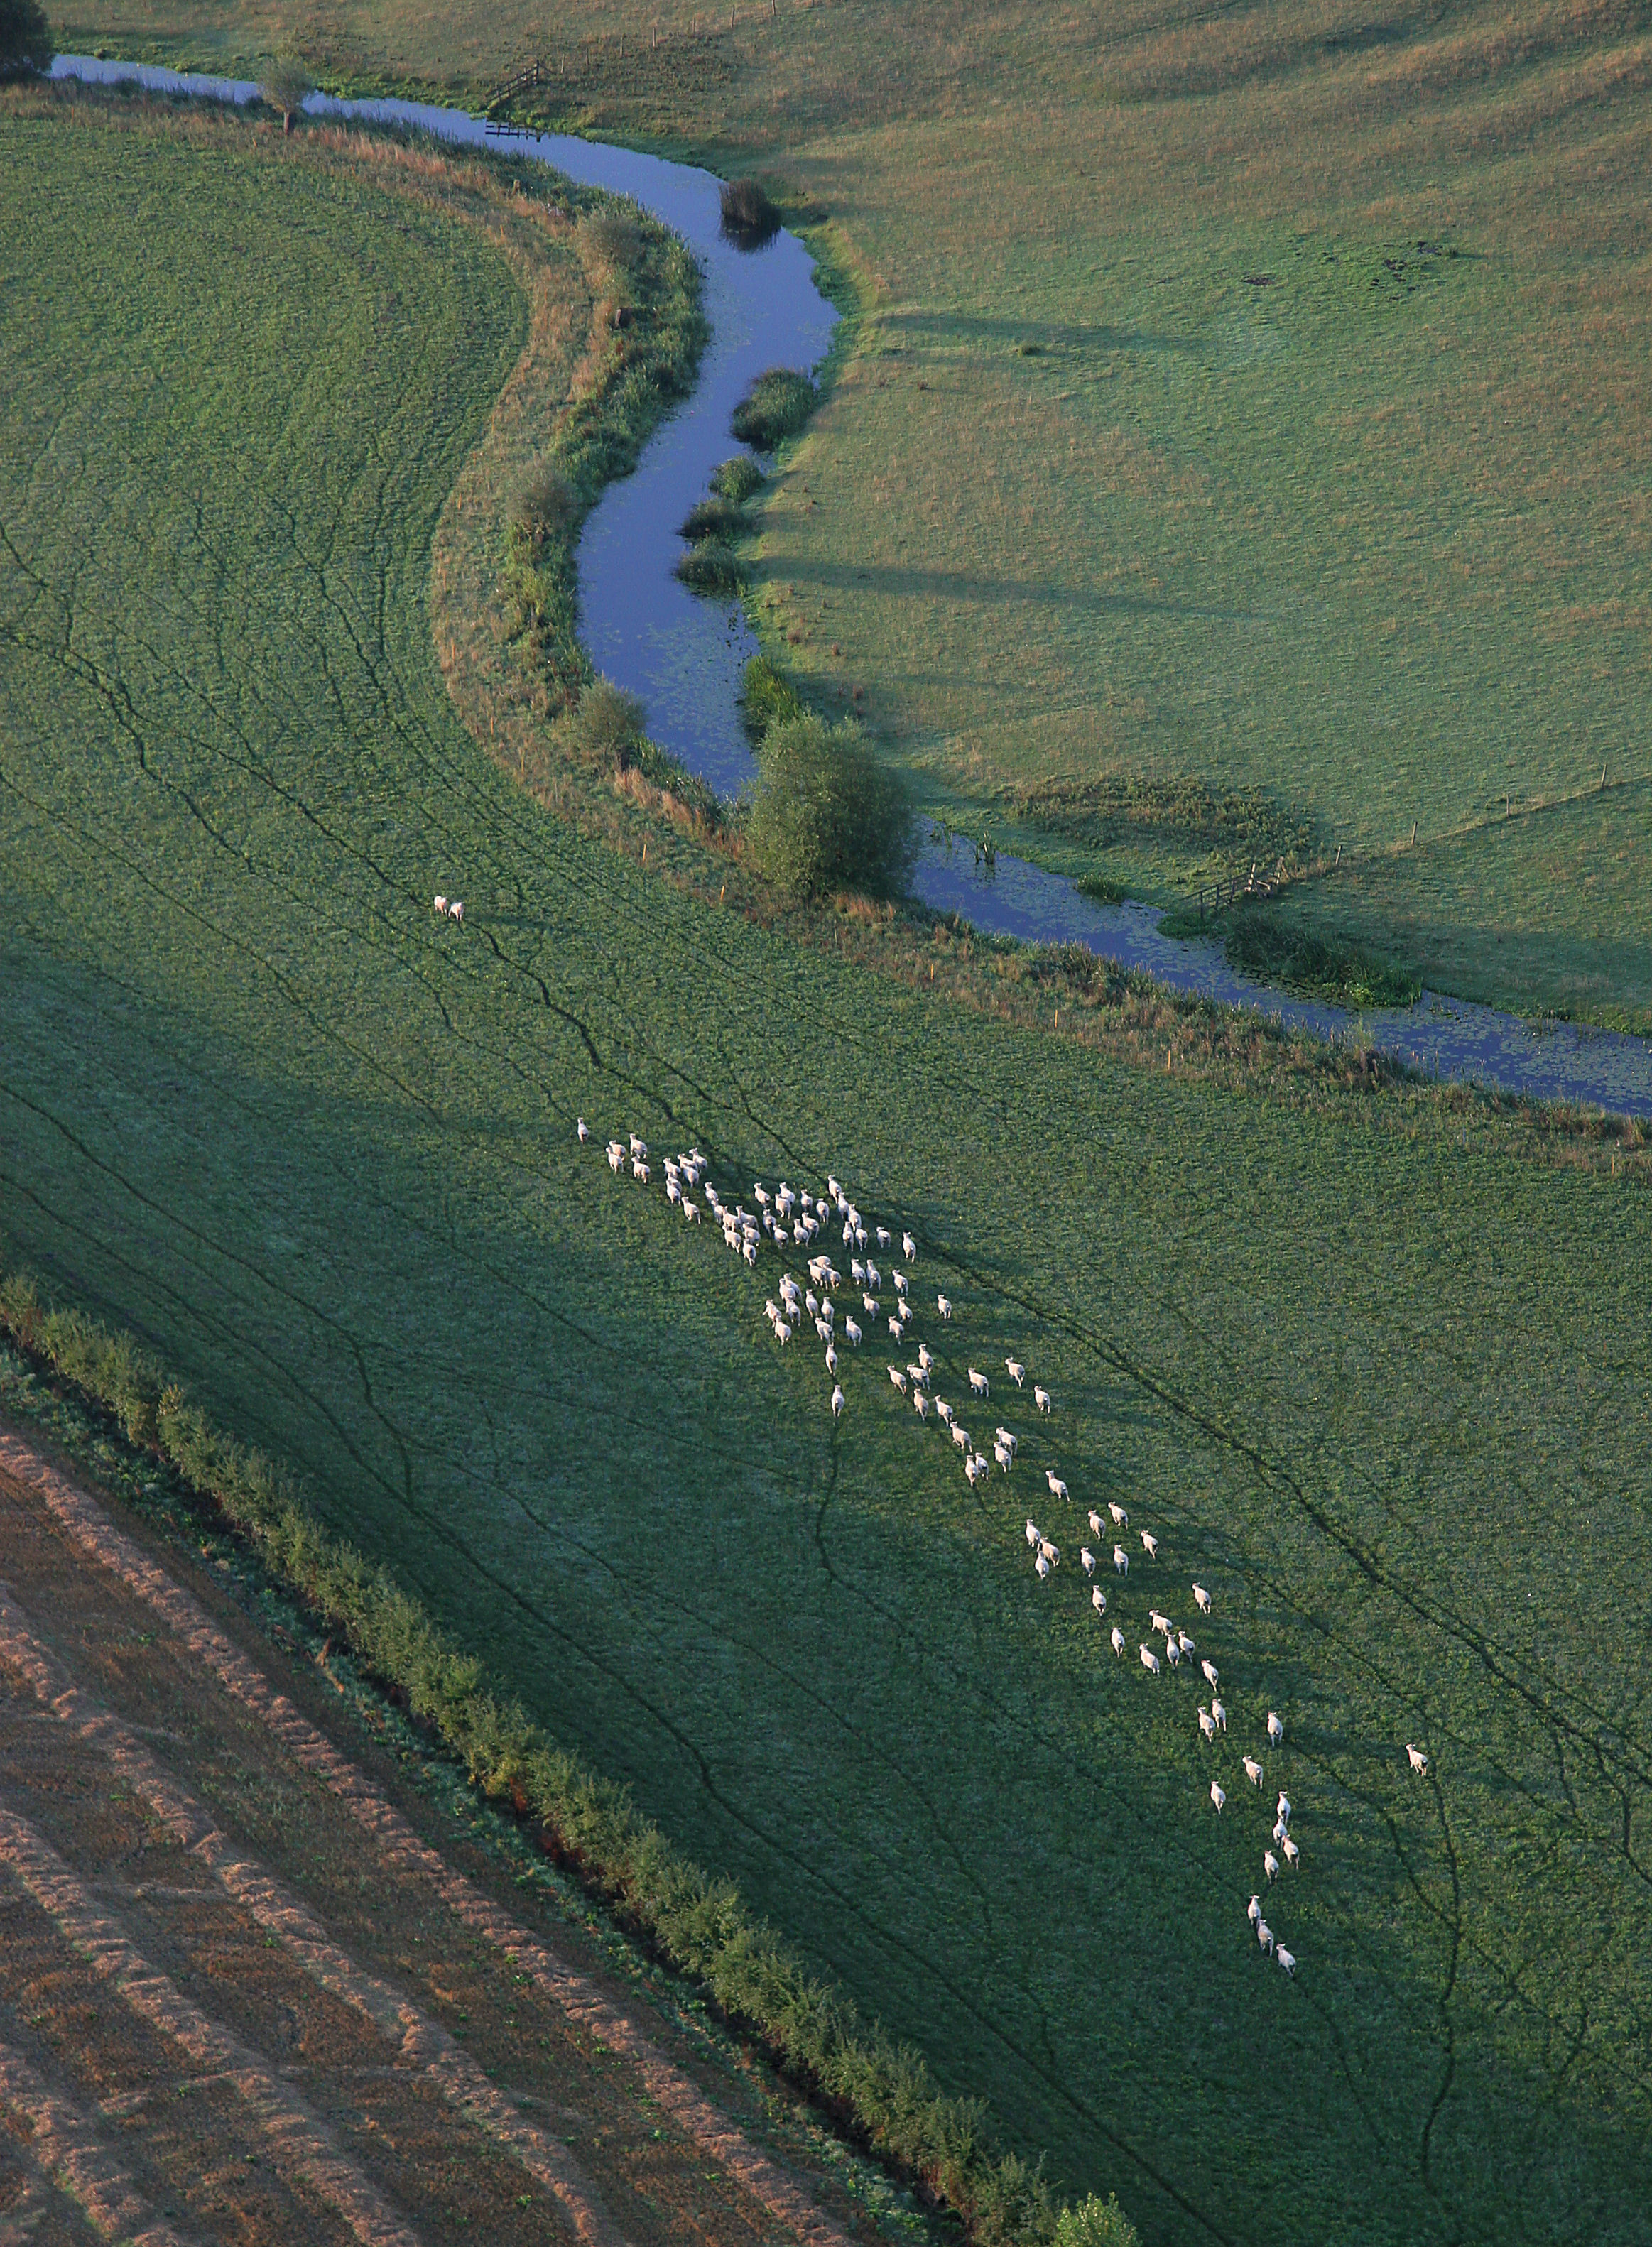sheep: (1237, 1752, 1268, 1790), (1193, 1704, 1216, 1748), (1045, 1469, 1071, 1502), (1146, 1605, 1174, 1635), (1279, 1837, 1305, 1868), (994, 1427, 1021, 1458), (1263, 1708, 1284, 1746), (1111, 1542, 1134, 1577), (1040, 1535, 1062, 1570), (1277, 1940, 1298, 1977), (1261, 1851, 1282, 1888), (1268, 1813, 1291, 1846), (1191, 1581, 1214, 1614), (1001, 1357, 1027, 1385), (933, 1396, 958, 1425), (898, 1230, 921, 1261), (860, 1291, 883, 1322), (1162, 1631, 1181, 1668), (1178, 1626, 1197, 1663), (1200, 1659, 1221, 1692), (827, 1385, 848, 1418), (771, 1312, 792, 1345), (734, 1202, 761, 1228), (968, 1366, 991, 1396), (1246, 1893, 1265, 1928), (1277, 1788, 1296, 1823), (1212, 1694, 1232, 1729), (886, 1364, 907, 1396), (1139, 1647, 1164, 1673), (1256, 1919, 1275, 1952), (1108, 1624, 1127, 1657), (1022, 1516, 1041, 1549), (844, 1314, 864, 1347), (1141, 1532, 1162, 1561), (682, 1195, 703, 1225), (961, 1451, 979, 1486), (991, 1441, 1010, 1472), (933, 1293, 956, 1319), (808, 1260, 829, 1287), (1089, 1506, 1106, 1539), (1109, 1499, 1129, 1528), (1033, 1385, 1052, 1415), (631, 1155, 651, 1185), (1212, 1778, 1230, 1809), (1090, 1581, 1106, 1615), (916, 1342, 933, 1373), (604, 1146, 625, 1172), (628, 1132, 647, 1160), (689, 1146, 708, 1174), (804, 1284, 820, 1317), (1034, 1546, 1048, 1582), (1080, 1547, 1099, 1574), (752, 1181, 771, 1207), (816, 1195, 834, 1223), (850, 1260, 867, 1287), (665, 1178, 682, 1205), (825, 1343, 839, 1375), (867, 1256, 881, 1287), (743, 1239, 759, 1267), (665, 1157, 682, 1179), (898, 1298, 914, 1322), (876, 1225, 891, 1249), (705, 1181, 720, 1205), (822, 1294, 834, 1324), (577, 1117, 590, 1143), (799, 1190, 813, 1212)
